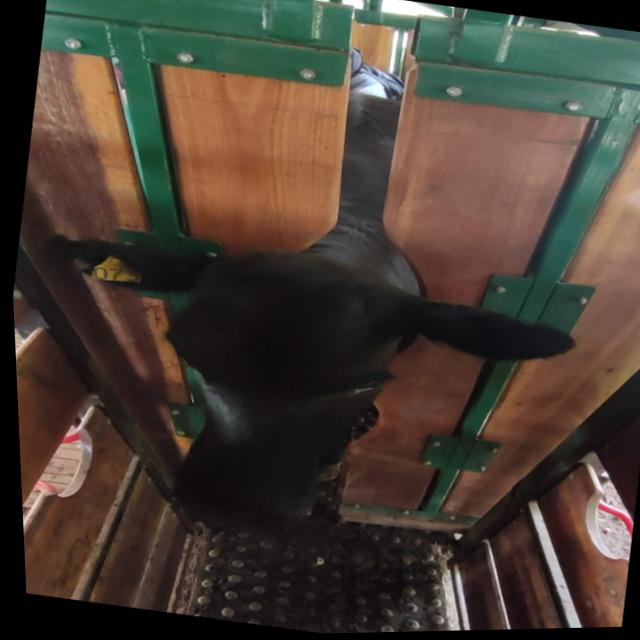cowFace: (130, 238, 412, 552)
